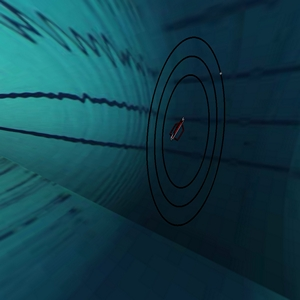circle: (142, 28, 240, 241)
submarine: (166, 108, 189, 160)
